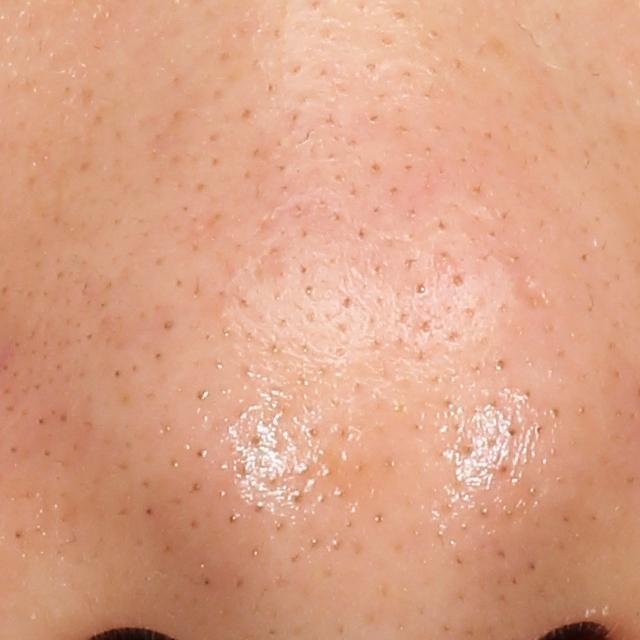atrophic_scar: (513, 274, 552, 314)
comedo: (411, 279, 432, 300), (450, 271, 465, 287)
